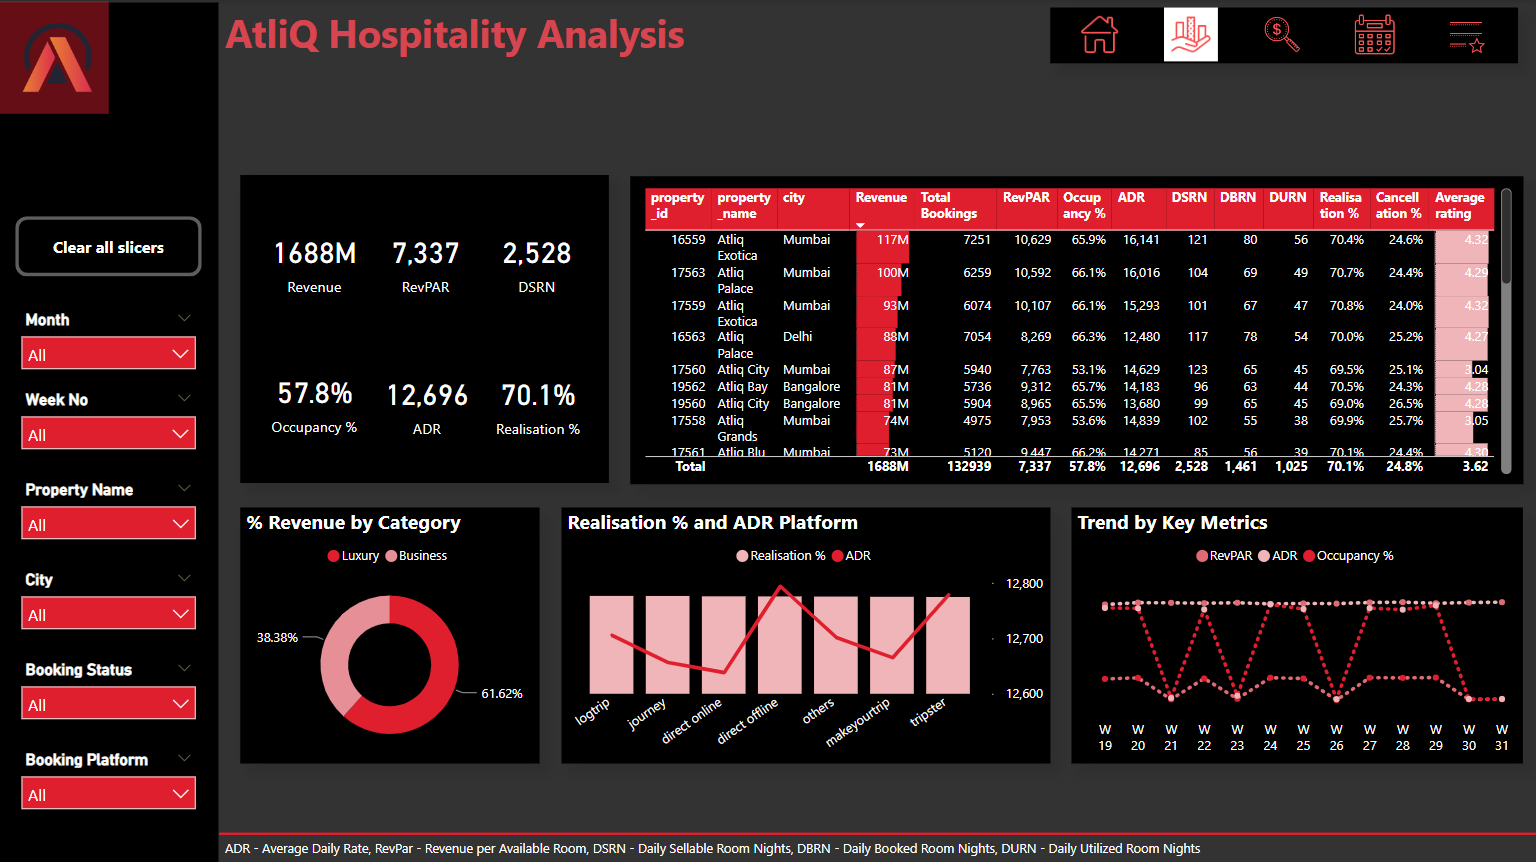

The dashboard page shown, as its layout file describes it:
{"tool":"powerbi","page":{"name":"Overall","canvas":[1280,720],"ordinal":1},"visuals":[{"type":"shape","box":[0,2.5,182.5,717.5],"z":0,"group":"g1"},{"type":"slicer","fields":{"Values":["dim_hotels.city"]},"box":[8.8,469.1,165.2,58.9],"z":1000,"group":"g1"},{"type":"group","id":"g1","title":"Filter on","box":[0,2.5,182.5,717.5],"z":2000},{"type":"slicer","fields":{"Values":["dim_hotels.property_name"]},"box":[8.8,394.6,165.2,58.9],"z":2000,"group":"g1"},{"type":"slicer","fields":{"Values":["fact_bookings.booking_platform"]},"box":[8.8,618.3,165.2,58.9],"z":3000,"group":"g1"},{"type":"image","title":"atliq","box":[0,1.2,91.2,93.8],"z":4000},{"type":"slicer","fields":{"Values":["fact_bookings.booking_status"]},"box":[8.8,543.7,165.2,58.9],"z":4000,"group":"g1"},{"type":"slicer","fields":{"Values":["dim_date.mmm yy"]},"box":[8.8,253.2,165,60],"z":5000,"group":"g1"},{"type":"slicer","fields":{"Values":["dim_date.week no"]},"box":[8.8,318.8,165,60],"z":6000},{"type":"lineClusteredColumnComboChart","title":"Realisation % and ADR Platform","fields":{"Y":["Key_measures.Realisation %"],"Category":["fact_bookings.booking_platform"],"Y2":["Key_measures.ADR"]},"box":[467.5,422,406.2,212.5],"z":7000},{"type":"shape","box":[524.4,147,742.5,256.2],"z":8000},{"type":"tableEx","fields":{"Values":["dim_hotels.property_id","dim_hotels.property_name","dim_hotels.city","Key_measures.Revenue","Key_measures.Total Bookings","Key_measures.RevPAR","Key_measures.Occupancy %","Key_measures.ADR","Key_measures.DSRN","Key_measures.DBRN","Key_measures.DURN","Key_measures.Realisation %"]},"box":[530.6,152,731.2,247.5],"z":9000},{"type":"donutChart","title":"% Revenue by Category","fields":{"Category":["dim_hotels.category"],"Y":["Key_measures.Revenue"]},"box":[200.6,422,248.8,212.5],"z":10000},{"type":"shape","box":[200.6,145.5,306.2,256.2],"z":11000},{"type":"lineChart","title":"Trend by Key Metrics","fields":{"Category":["dim_date.week no"],"Y":["Key_measures.RevPAR","Key_measures.ADR"],"Y2":["Key_measures.Occupancy %"]},"box":[891.9,422,375,212.5],"z":12000},{"type":"textbox","box":[182.5,690,1097.5,30],"z":13000},{"type":"shape","box":[182.5,683.8,1097.5,18.8],"z":14000},{"type":"card","fields":{"Values":["Key_measures.Revenue"]},"box":[219.4,179.5,86.2,76.2],"z":15000},{"type":"card","fields":{"Values":["Key_measures.RevPAR"]},"box":[311.9,179.5,86.2,76.2],"z":16000},{"type":"card","fields":{"Values":["Key_measures.DSRN"]},"box":[404.4,179.5,86.2,76.2],"z":17000},{"type":"card","fields":{"Values":["Key_measures.Occupancy %"]},"box":[219.4,296.5,86.2,76.2],"z":18000},{"type":"card","fields":{"Values":["Key_measures.ADR"]},"box":[312.5,297,86.2,76.2],"z":19000},{"type":"card","fields":{"Values":["Key_measures.Realisation %"]},"box":[405.6,297,86.2,76.2],"z":20000},{"type":"actionButton","box":[13.8,180,155,50],"z":21000},{"type":"shape","box":[873.5,5.9,388.7,46.2],"z":22000},{"type":"image","box":[892.3,5.9,45,45],"z":23000},{"type":"image","box":[968.5,6.2,45,45],"z":24000},{"type":"image","box":[1196.9,6.1,45,45],"z":25000},{"type":"image","box":[1120.8,6.4,45,45],"z":26000},{"type":"image","box":[1044.6,6.3,45,45],"z":27000},{"type":"textbox","box":[182.5,1.2,470.5,65.2],"z":28000}]}

Visuals, with their boxes in screenshot pixels (x1, y1, x2, y2), scaled from the page's 1280x720 canvas onto the 1536x862 screenshot:
shape: <region>0, 3, 219, 861</region>
slicer - dim_hotels.city: <region>11, 562, 209, 632</region>
"Filter on" group: <region>0, 3, 219, 861</region>
slicer - dim_hotels.property_name: <region>11, 472, 209, 543</region>
slicer - fact_bookings.booking_platform: <region>11, 740, 209, 811</region>
"atliq" image: <region>0, 1, 109, 114</region>
slicer - fact_bookings.booking_status: <region>11, 651, 209, 721</region>
slicer - dim_date.mmm yy: <region>11, 303, 209, 375</region>
slicer - dim_date.week no: <region>11, 382, 209, 454</region>
"Realisation % and ADR Platform" lineClusteredColumnComboChart: <region>561, 505, 1048, 760</region>
shape: <region>629, 176, 1520, 483</region>
tableEx - dim_hotels.property_id x dim_hotels.property_name: <region>637, 182, 1514, 478</region>
"% Revenue by Category" donutChart: <region>241, 505, 539, 760</region>
shape: <region>241, 174, 608, 481</region>
"Trend by Key Metrics" lineChart: <region>1070, 505, 1520, 760</region>
textbox: <region>219, 826, 1535, 861</region>
shape: <region>219, 819, 1535, 841</region>
card - Key_measures.Revenue: <region>263, 215, 367, 306</region>
card - Key_measures.RevPAR: <region>374, 215, 478, 306</region>
card - Key_measures.DSRN: <region>485, 215, 589, 306</region>
card - Key_measures.Occupancy %: <region>263, 355, 367, 446</region>
card - Key_measures.ADR: <region>375, 356, 478, 447</region>
card - Key_measures.Realisation %: <region>487, 356, 590, 447</region>
actionButton: <region>17, 216, 203, 275</region>
shape: <region>1048, 7, 1515, 62</region>
image: <region>1071, 7, 1125, 61</region>
image: <region>1162, 7, 1216, 61</region>
image: <region>1436, 7, 1490, 61</region>
image: <region>1345, 8, 1399, 62</region>
image: <region>1254, 8, 1308, 61</region>
textbox: <region>219, 1, 784, 79</region>
